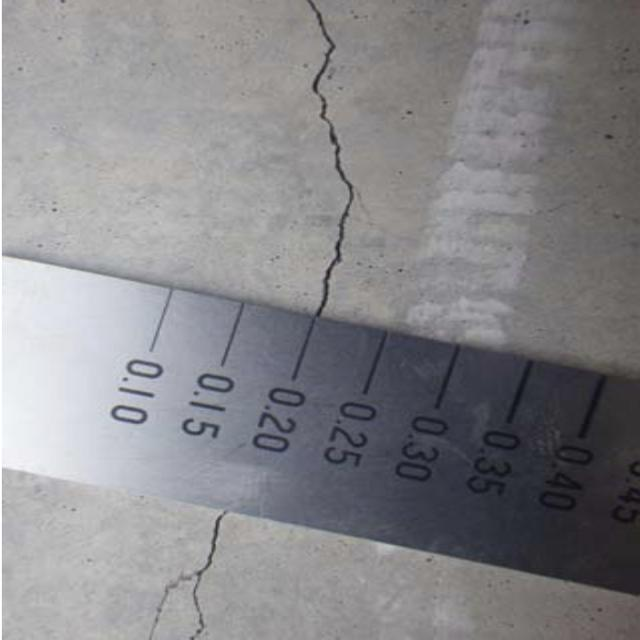crack: (284, 6, 379, 314), (147, 505, 241, 640)
